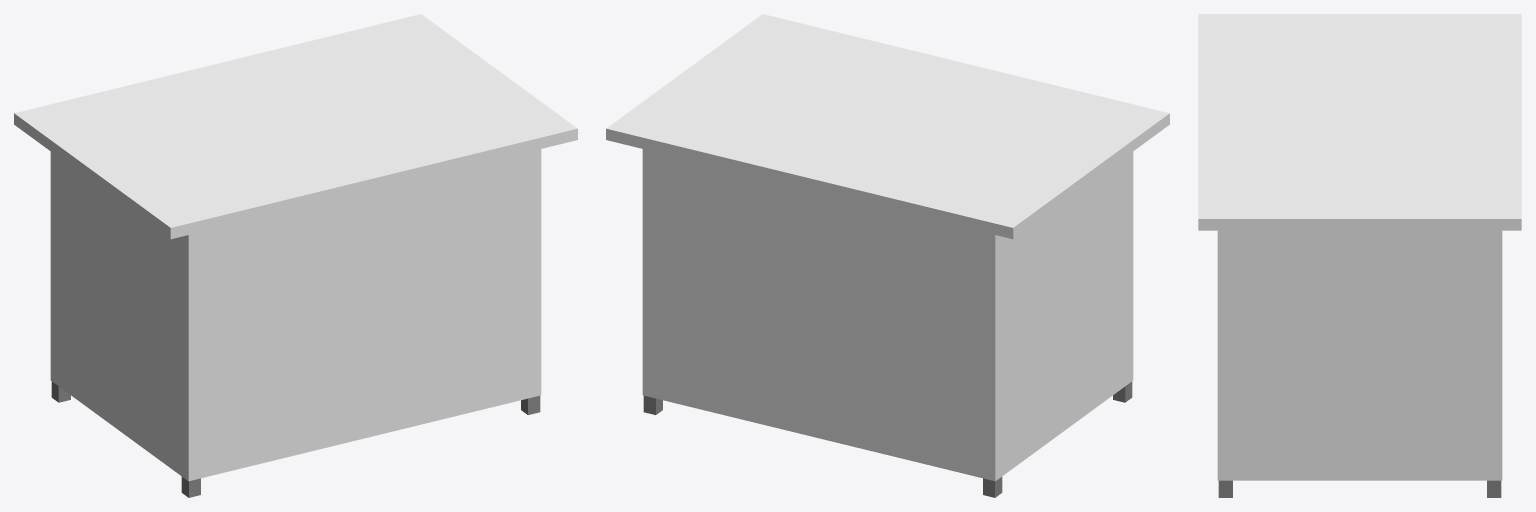
File: table.dae
3 renders of one model, left to right at view 1: azimuth 30°, elevation 25°; view 2: azimuth 150°, elevation 25°; view 3: azimuth 270°, elevation 25°, orthographic. The views are drawn at different scales.
Visible parts, largest first — view 1: Cube.005, Cube; view 2: Cube.005, Cube; view 3: Cube.005, Cube.
Boxes of the visible parts, x1,y1,x2,y2 form: Cube.005: (50,149,541,481); Cube: (14,14,577,239); Cube.005: (642,149,1133,481); Cube: (606,14,1169,239); Cube.005: (1217,230,1502,480); Cube: (1198,14,1521,230).
Size of the model in its own units: 1.5 by 1 by 1.
3 materials, 1 textured.
